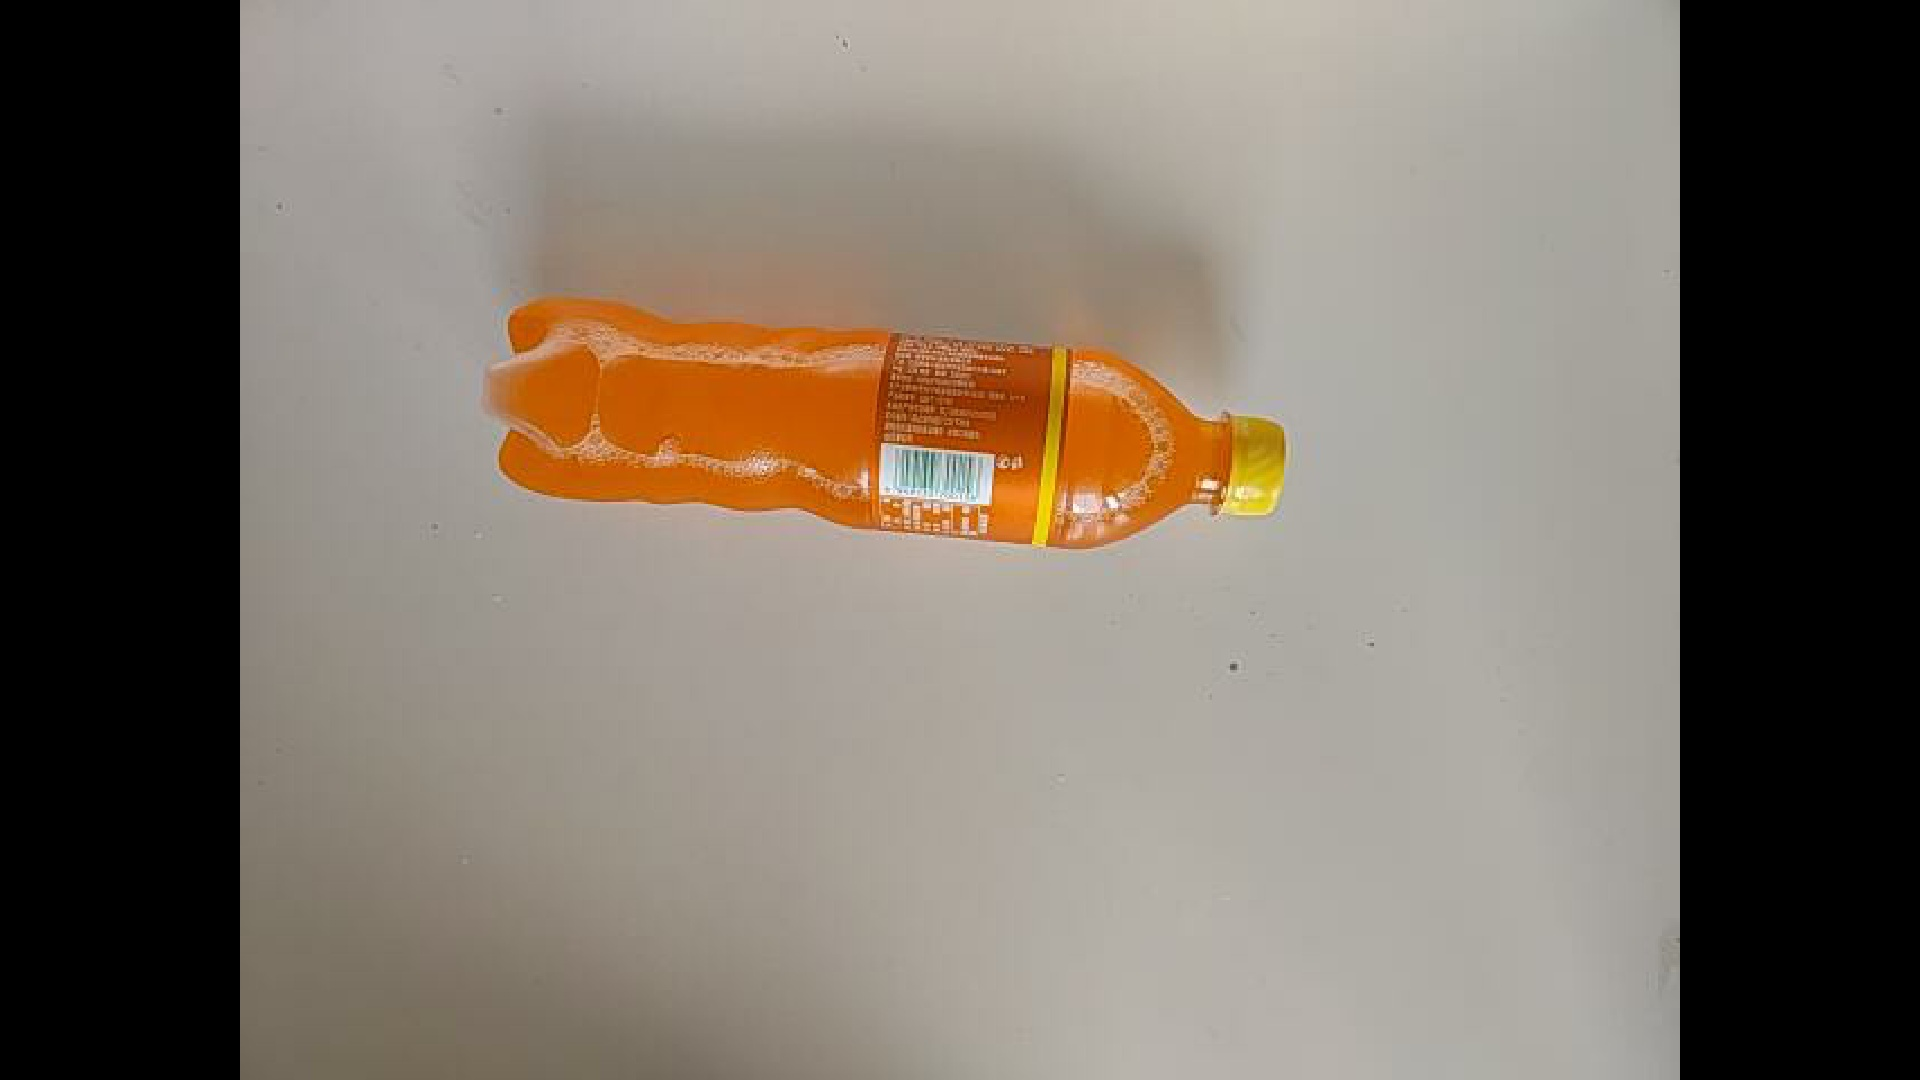fenta: (456, 286, 1298, 537)
